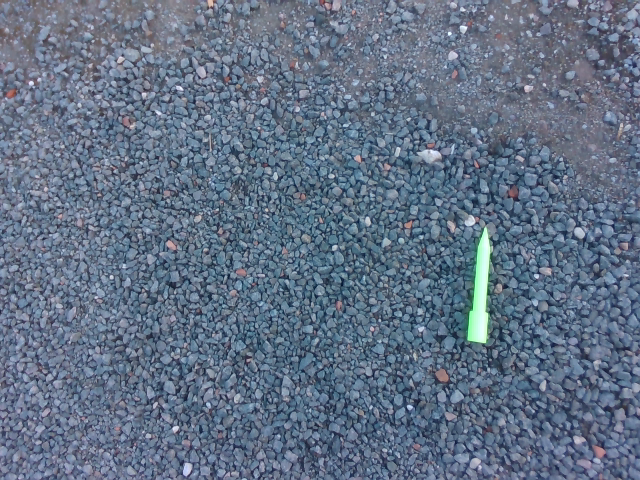Probe: (463, 217, 498, 351)
